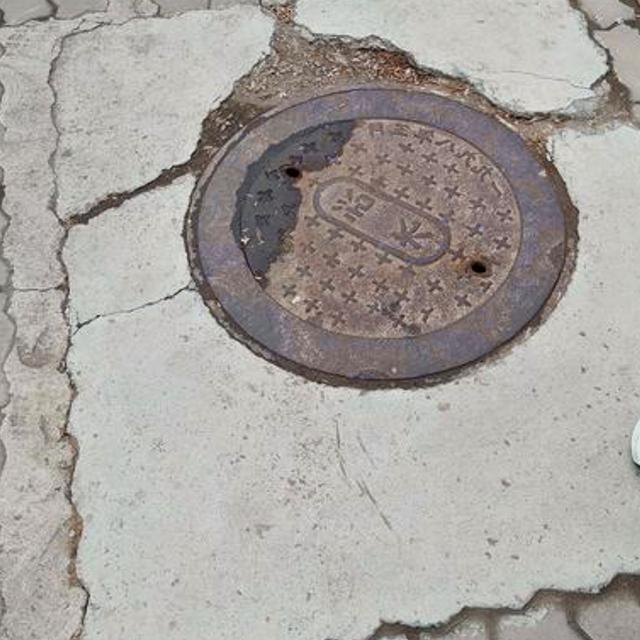circle: (86, 11, 640, 439)
